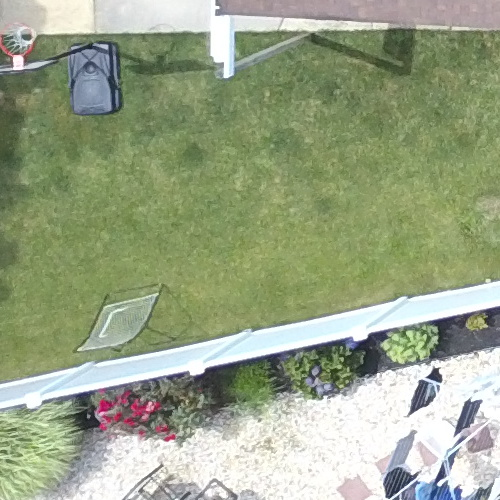basketball: (1, 14, 144, 121)
